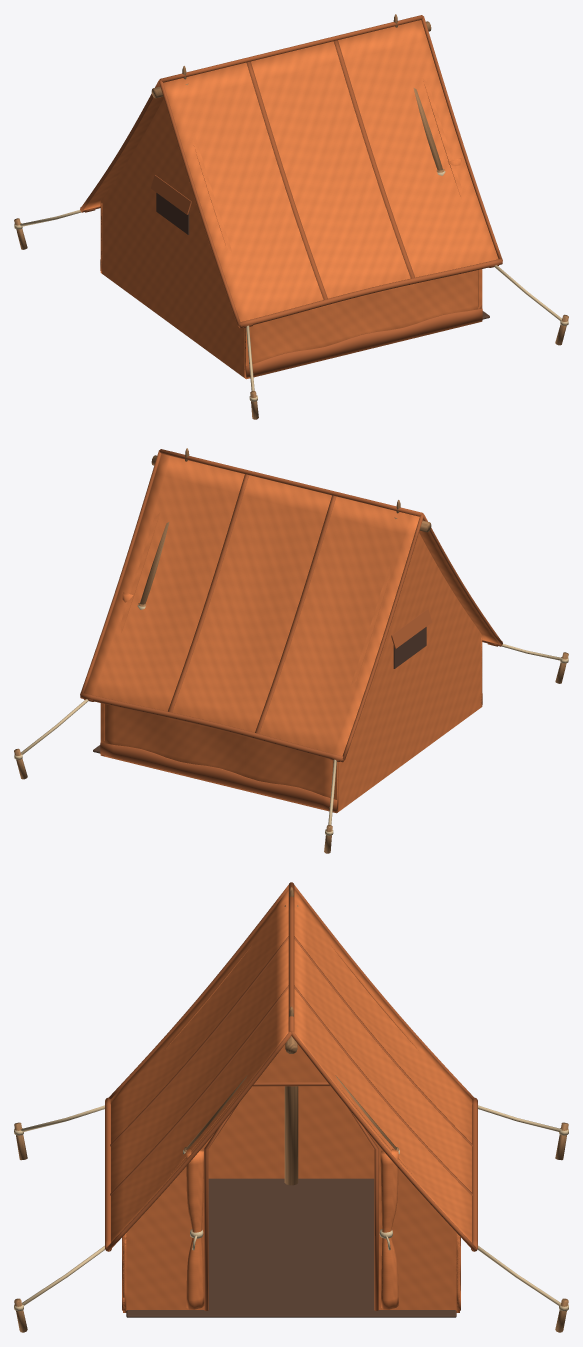
3 renders of one model, top to bottom at view 1: azimuth 30°, elevation 25°; view 2: azimuth 150°, elevation 25°; view 3: azimuth 270°, elevation 25°, orthographic. The views are drawn at different scales.
Visible parts, largest first — view 1: C04_craft_canvas, C04_craft_binding, C04_craft_wood, C04_craft_hemp, C04_craft_dark; view 2: C04_craft_canvas, C04_craft_binding, C04_craft_wood, C04_craft_hemp, C04_craft_dark; view 3: C04_craft_canvas, C04_craft_dark, C04_craft_binding, C04_craft_wood, C04_craft_hemp.
Part boxes in pixels (box(x1,y1,x2,y2)): C04_craft_canvas: box(81, 20, 498, 379); C04_craft_binding: box(80, 15, 502, 377); C04_craft_wood: box(14, 14, 568, 419); C04_craft_hemp: box(14, 171, 568, 401); C04_craft_dark: box(156, 193, 489, 319); C04_craft_canvas: box(84, 454, 501, 813); C04_craft_binding: box(80, 449, 502, 811); C04_craft_wood: box(14, 448, 568, 853); C04_craft_hemp: box(14, 605, 568, 835); C04_craft_dark: box(93, 627, 426, 753); C04_craft_canvas: box(108, 889, 474, 1312); C04_craft_dark: box(126, 1178, 456, 1317); C04_craft_binding: box(105, 882, 477, 1310); C04_craft_wood: box(14, 887, 568, 1332); C04_craft_hemp: box(14, 1105, 568, 1310).
Size of the model in its own units: 3.23 by 2.5 by 4.22.
Materials: 5 (2 with a texture image).
